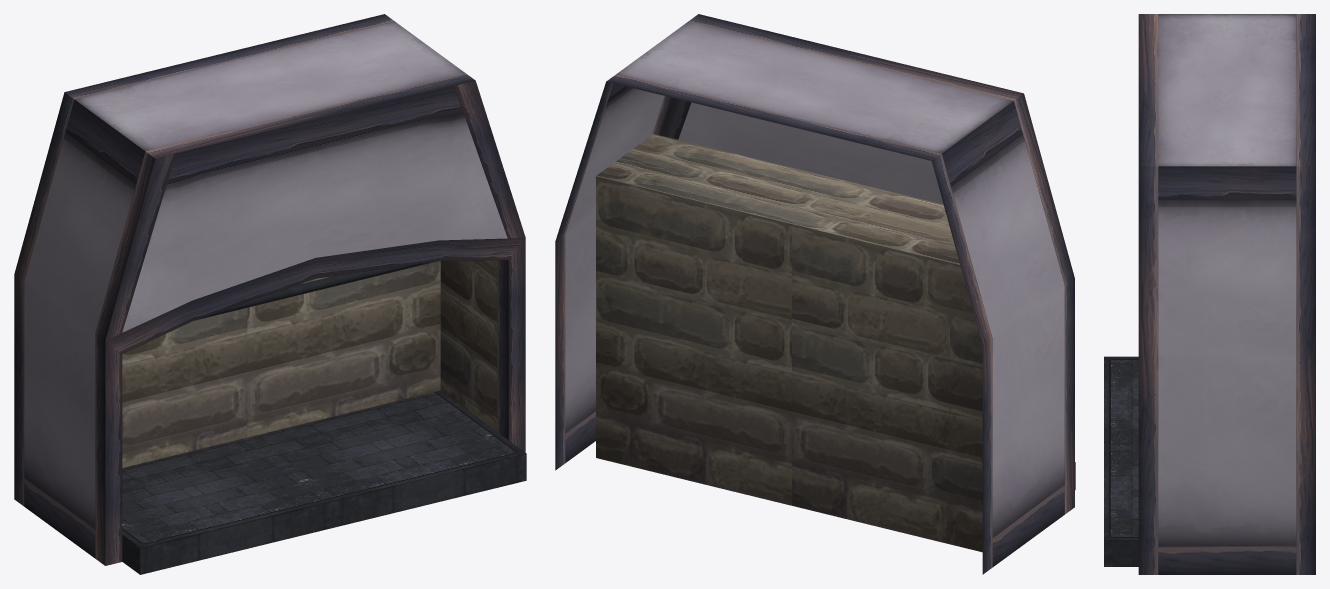
File: Fireplace_C.fbx
The picture shows the model from 3 angles, left to right: view 1: azimuth 30°, elevation 25°; view 2: azimuth 150°, elevation 25°; view 3: azimuth 270°, elevation 25°; orthographic projection. The views are drawn at different scales.
Parts seen in each view (by area): view 1: Fireplace_C; view 2: Fireplace_C; view 3: Fireplace_C.
Boxes of the visible parts, left/top/right/bottom form: Fireplace_C: left=14, top=14, right=526, bottom=574; Fireplace_C: left=555, top=14, right=1075, bottom=574; Fireplace_C: left=1104, top=14, right=1315, bottom=574.
Bounding box in the file's own units: 0.6977 × 0.6266 × 0.3127.
